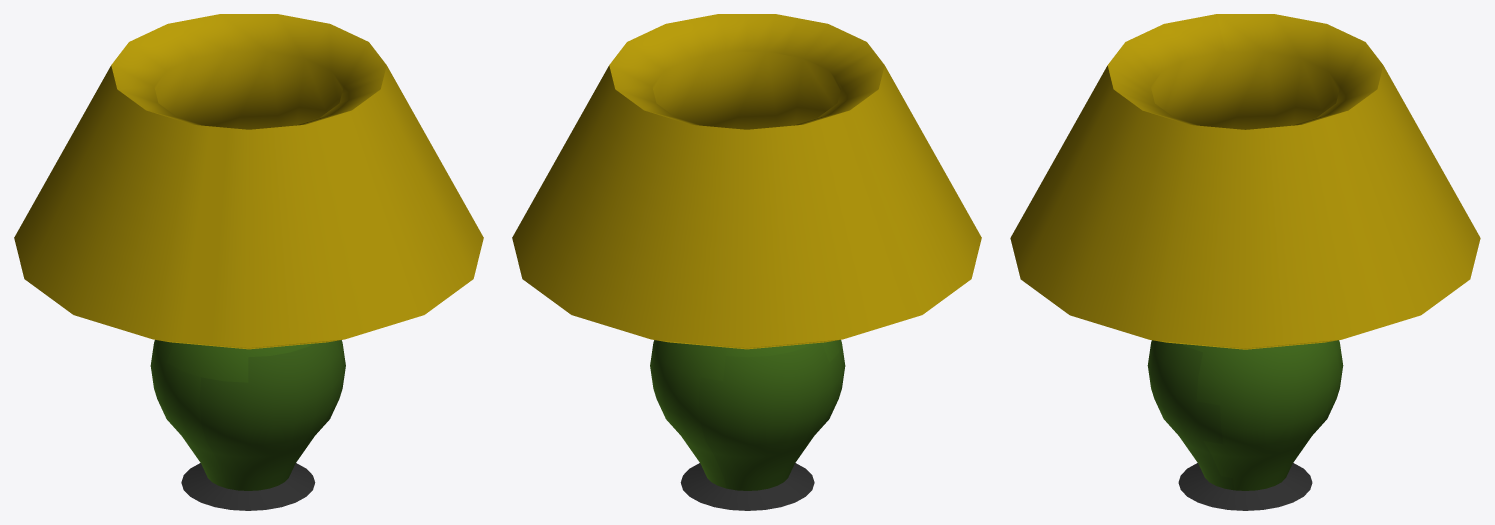
File: Lamp.fbx
The picture shows the model from 3 angles, left to right: view 1: azimuth 30°, elevation 25°; view 2: azimuth 150°, elevation 25°; view 3: azimuth 270°, elevation 25°; orthographic projection.
Parts seen in each view (by area): view 1: Lamp; view 2: Lamp; view 3: Lamp.
Part boxes in pixels (x1,y1,x2,y2): Lamp: (14,14,483,510); Lamp: (512,14,981,510); Lamp: (1010,14,1480,510).
Bounding box in the file's own units: 55.44 × 55.59 × 55.74.
Materials: 1 (1 with a texture image).
